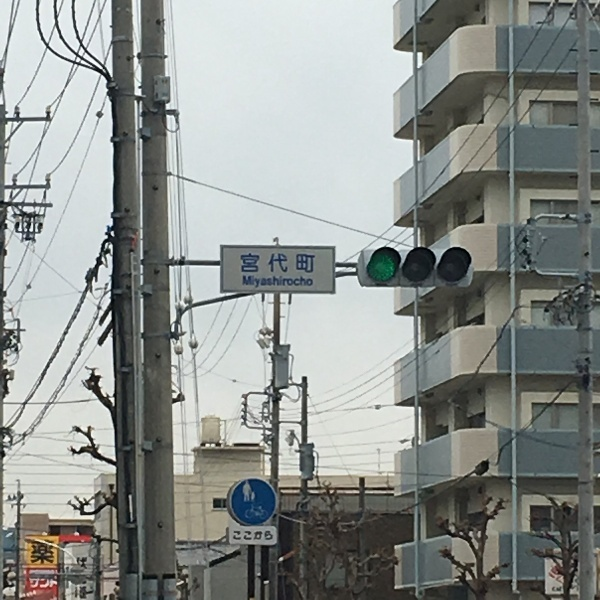text: (33, 539, 48, 565), (241, 253, 256, 274), (257, 253, 272, 274), (273, 253, 288, 274), (289, 253, 304, 274), (305, 253, 316, 274), (257, 275, 272, 289), (273, 275, 288, 289), (289, 275, 304, 289), (33, 575, 48, 589), (243, 275, 256, 289), (241, 530, 256, 542), (257, 530, 272, 542), (49, 539, 55, 565), (49, 575, 59, 589), (305, 275, 314, 289), (233, 530, 240, 542), (552, 585, 560, 593), (29, 575, 32, 589), (31, 539, 32, 565), (561, 585, 563, 593), (273, 530, 274, 542)
